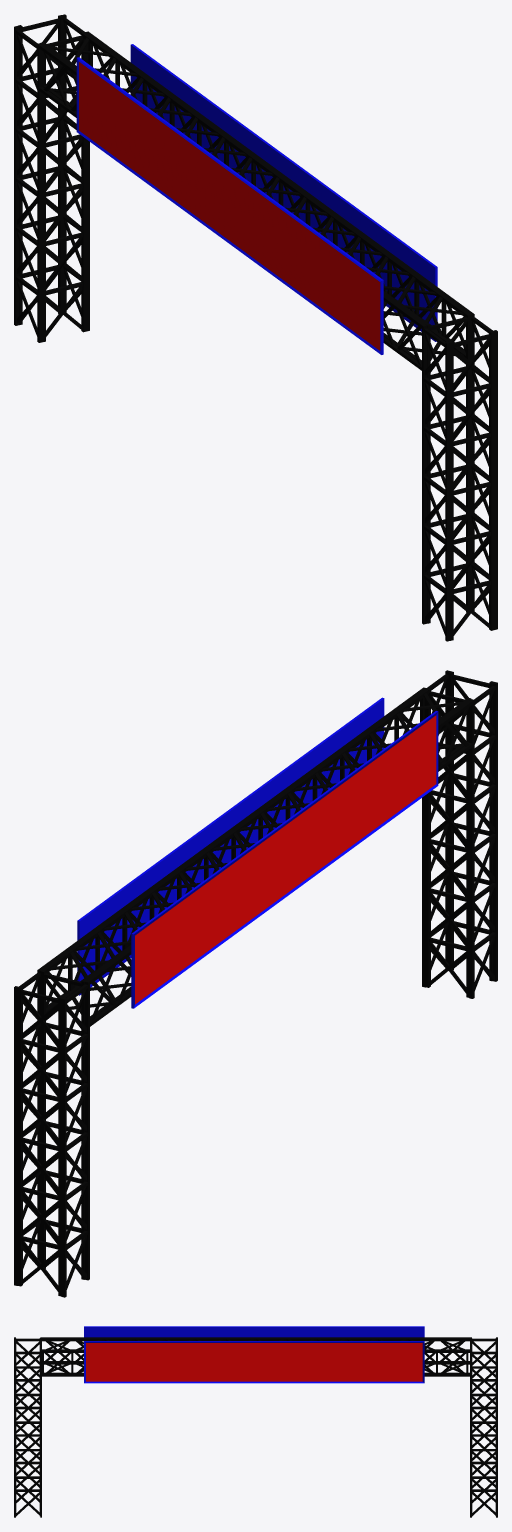
File: Billboard_New_4.fbx
3 views of the same model, one above another, from view 1: azimuth 30°, elevation 25°; view 2: azimuth 150°, elevation 25°; view 3: azimuth 270°, elevation 25° (orthographic). The views are drawn at different scales.
Visible parts, largest first — view 1: Billboard_New_4; view 2: Billboard_New_4; view 3: Billboard_New_4.
Part boxes in pixels (x1,y1,x2,y2): Billboard_New_4: (14, 14, 497, 641); Billboard_New_4: (14, 670, 497, 1297); Billboard_New_4: (14, 1326, 497, 1517).
Size of the model in its own units: 65.8 by 353 by 878.
